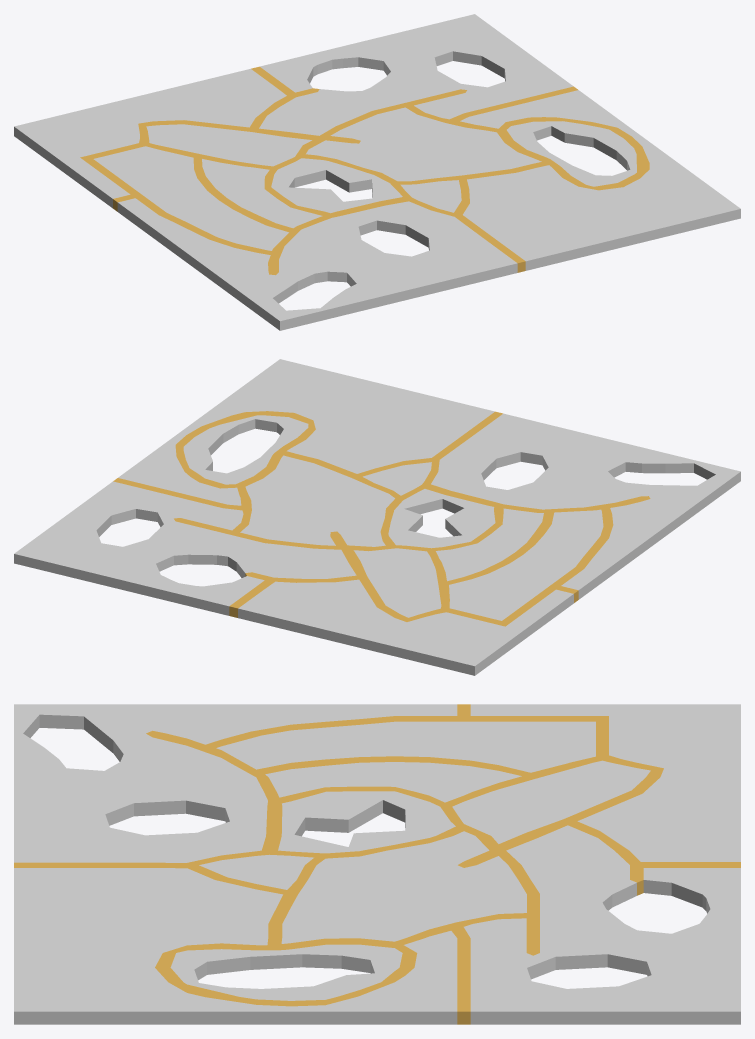
File: rock_kicking_heaven_ground_collision.glb
3 renders of one model, top to bottom at view 1: azimuth 30°, elevation 25°; view 2: azimuth 150°, elevation 25°; view 3: azimuth 270°, elevation 25°, orthographic. The views are drawn at different scales.
Visible parts, largest first — view 1: HeavenGroundCollision-convcolonly; view 2: HeavenGroundCollision.002-convcolonly; view 3: HeavenGroundCollision.054-convcolonly, HeavenGroundCollision.063-convcolonly, HeavenGroundCollision.070-convcolonly, HeavenGroundCollision.436-convcolonly, HeavenGroundCollision.001-convcolonly, HeavenGroundCollision.003-convcolonly, HeavenGroundCollision.055-convcolonly, HeavenGroundCollision.056-convcolonly, HeavenGroundCollision.057-convcolonly, HeavenGroundCollision.066-convcolonly, HeavenGroundCollision.067-convcolonly, HeavenGroundCollision.068-convcolonly (+125 smaller).
Boxes of the visible parts, x1,y1,x2,y2 form: HeavenGroundCollision-convcolonly: (267,308,301,330); HeavenGroundCollision.002-convcolonly: (453,651,487,675); HeavenGroundCollision.054-convcolonly: (48,997,83,1024); HeavenGroundCollision.063-convcolonly: (394,997,429,1024); HeavenGroundCollision.070-convcolonly: (671,997,706,1024); HeavenGroundCollision.436-convcolonly: (498,997,533,1024); HeavenGroundCollision.001-convcolonly: (14,997,48,1024); HeavenGroundCollision.003-convcolonly: (706,997,740,1024); HeavenGroundCollision.055-convcolonly: (83,997,117,1024); HeavenGroundCollision.056-convcolonly: (118,997,152,1024); HeavenGroundCollision.057-convcolonly: (152,997,186,1024); HeavenGroundCollision.066-convcolonly: (533,997,567,1024); HeavenGroundCollision.067-convcolonly: (568,997,602,1024); HeavenGroundCollision.068-convcolonly: (602,997,636,1024).
Bounding box in the file's own units: 500 × 10 × 500.
